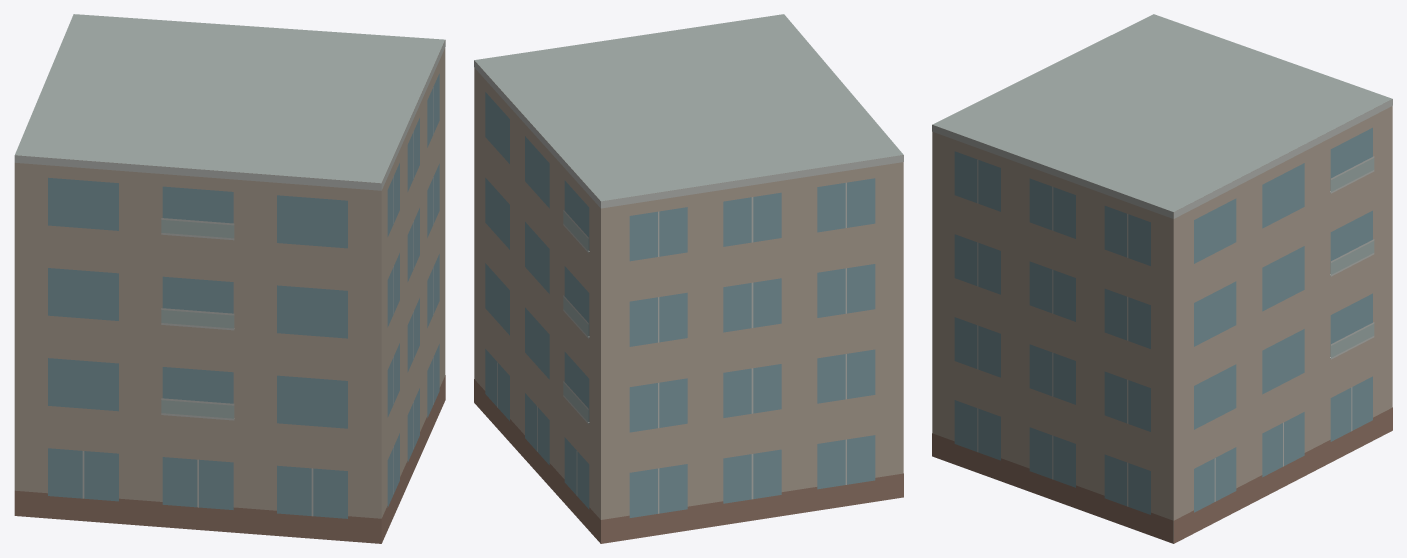
The model's file is survey-upis-32631886.glb.
3 views of the same model, side by side, from view 1: azimuth 30°, elevation 25°; view 2: azimuth 150°, elevation 25°; view 3: azimuth 270°, elevation 25° (orthographic). The views are drawn at different scales.
Parts seen in each view (by area): view 1: survey-upis-32631886.tmp; view 2: survey-upis-32631886.tmp; view 3: survey-upis-32631886.tmp.
Part boxes in pixels (box(x1,y1,x2,y2)): survey-upis-32631886.tmp: box(14, 14, 445, 543); survey-upis-32631886.tmp: box(474, 14, 903, 543); survey-upis-32631886.tmp: box(932, 14, 1392, 543).
Size of the model in its own units: 15 by 11.7 by 14.73.
